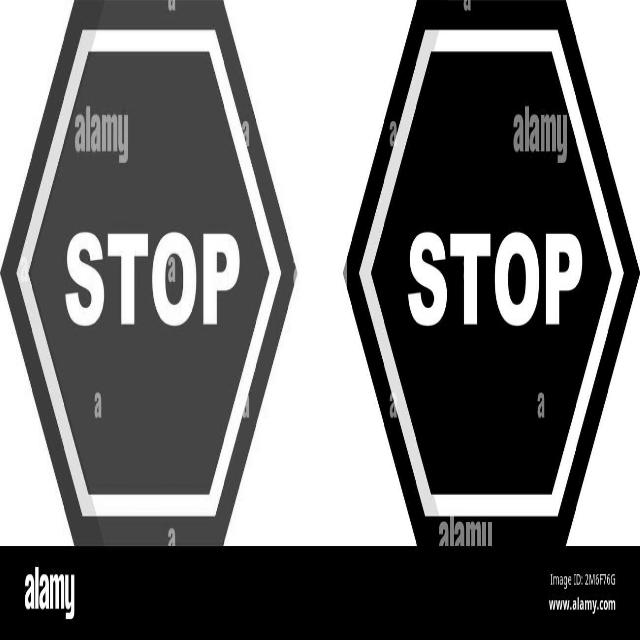Stop-sign: (0, 0, 298, 547)
